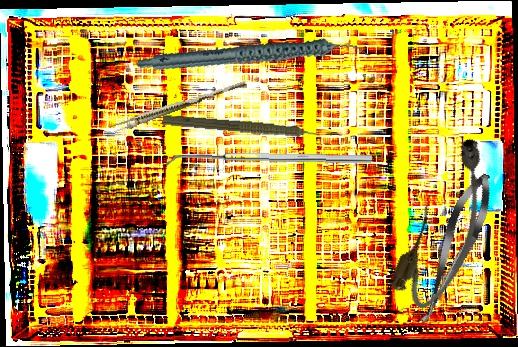Cannula: (384, 131, 511, 317)
Handpiece: (135, 9, 371, 104), (161, 111, 330, 147)
Micro Scissor: (407, 168, 502, 331)
Spatula Surgical: (166, 151, 372, 172)
Tissue Forceps: (109, 75, 248, 137)
